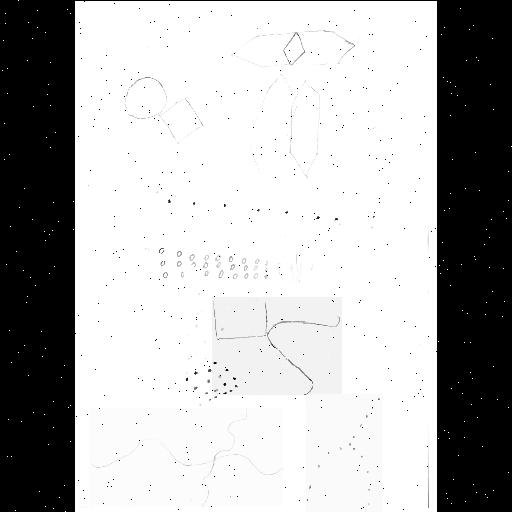shape-1: (124, 75, 204, 143)
shape-2: (166, 193, 378, 223)
shape-3: (156, 246, 268, 282)
shape-4: (184, 358, 238, 408)
shape-5: (212, 297, 342, 395)
shape-6: (306, 394, 382, 512)
shape-7: (89, 408, 283, 506)
shape-8: (247, 72, 323, 178)
shape-9: (233, 28, 355, 70)
